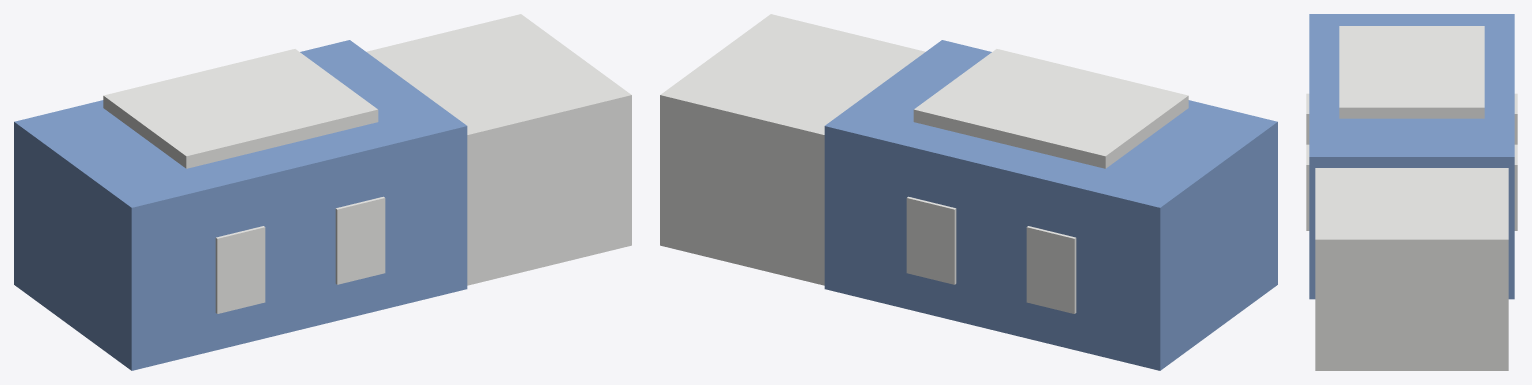
File: item_58_eraser.glb
The picture shows the model from 3 angles, left to right: view 1: azimuth 30°, elevation 25°; view 2: azimuth 150°, elevation 25°; view 3: azimuth 270°, elevation 25°; orthographic projection. The views are drawn at different scales.
Parts seen in each view (by area): view 1: I58_Sleeve, I58_Body, I58_Card, I58_Print1, I58_Print0; view 2: I58_Sleeve, I58_Body, I58_Card, I58_Print1, I58_Print0; view 3: I58_Body, I58_Sleeve, I58_Card, I58_Print1, I58_Print0.
Part boxes in pixels (left/top/right/bottom): I58_Sleeve: left=14, top=40, right=467, bottom=370; I58_Body: left=366, top=14, right=631, bottom=285; I58_Card: left=103, top=49, right=378, bottom=168; I58_Print1: left=335, top=196, right=385, bottom=284; I58_Print0: left=215, top=226, right=265, bottom=313; I58_Sleeve: left=824, top=40, right=1277, bottom=370; I58_Body: left=660, top=14, right=925, bottom=285; I58_Card: left=913, top=49, right=1188, bottom=168; I58_Print1: left=906, top=196, right=956, bottom=284; I58_Print0: left=1026, top=226, right=1076, bottom=313; I58_Body: left=1315, top=168, right=1508, bottom=370; I58_Sleeve: left=1309, top=14, right=1514, bottom=299; I58_Card: left=1339, top=26, right=1484, bottom=118; I58_Print1: left=1306, top=144, right=1517, bottom=230; I58_Print0: left=1306, top=93, right=1517, bottom=144.
Bounding box in the file's own units: 0.042 × 0.0147 × 0.0175.
